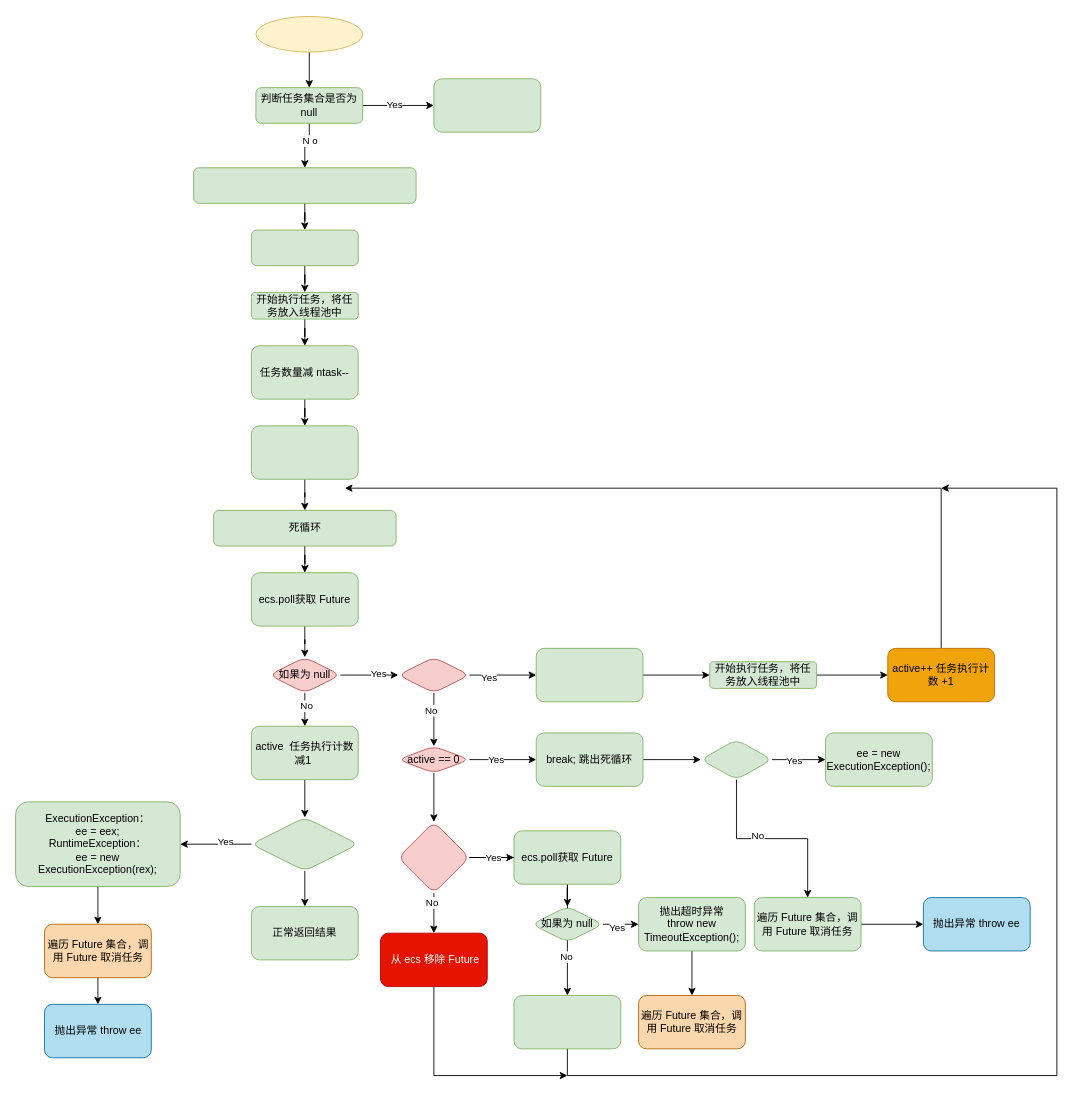
This 1080x1098 diagram has some shape labels left out. The centre of each missing label's shape, as x and y in pixels:
"ntask--" belongs at point 589,674.
"return f.get() 阻塞获取结果值 是否执行异常" belongs at point 304,844.
"start invokeAll 没有设置超时时间" belongs at point 309,34.
"初始化已经执行的任务数量 active = 1" belongs at point 304,452.
"判读 ee 异常是否为 null" belongs at point 736,759.
"如果 ntask > 0" belongs at point 433,674.
"将 RunnableFuture 封装为 ExecutorCompletionService ecs" belongs at point 304,185.
"抛出异常NullPointerException" belongs at point 487,105.
"是否指定了超时时间 timed" belongs at point 433,857.
"计算结束时间" belongs at point 304,247.
"计算超时时间" belongs at point 567,1022.
